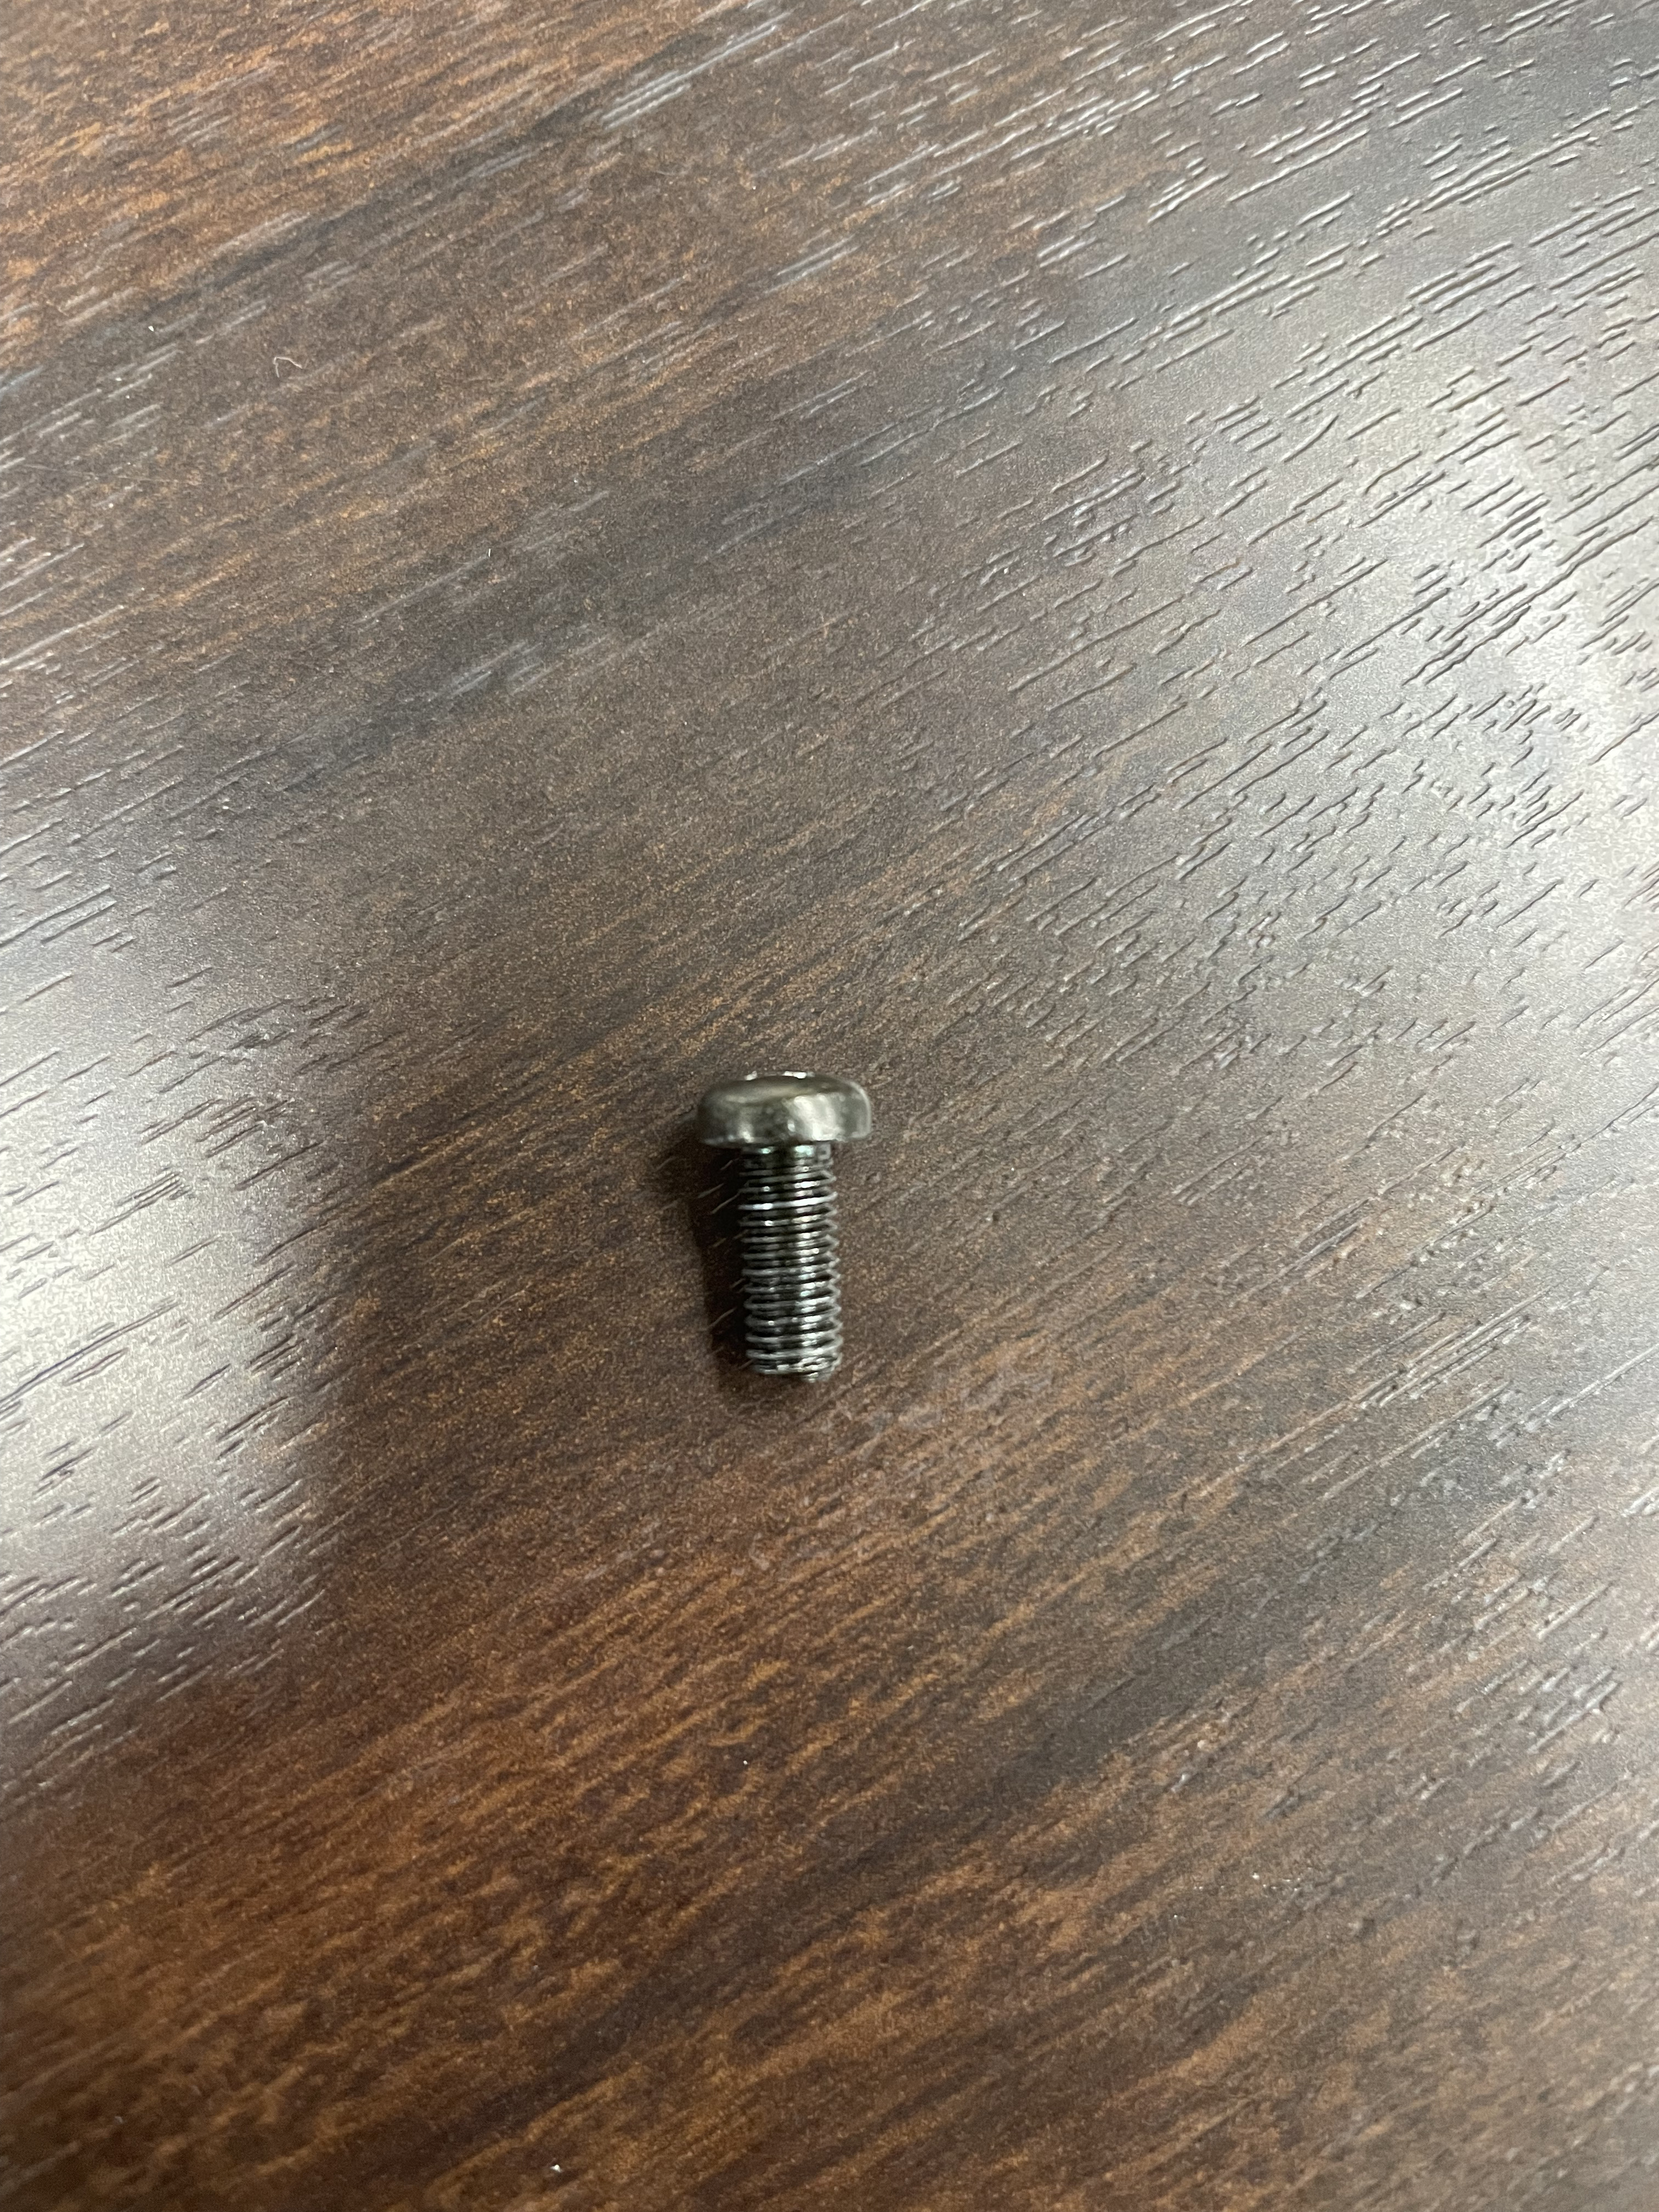screw2: (698, 1065, 876, 1385)
